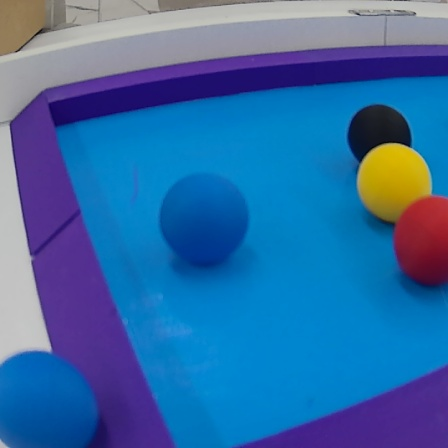black: (343, 97, 417, 166)
blue: (0, 348, 102, 448), (158, 169, 253, 270)
blue_aim: (7, 37, 448, 448)
red: (388, 191, 448, 292)
yellow: (354, 139, 435, 228)
